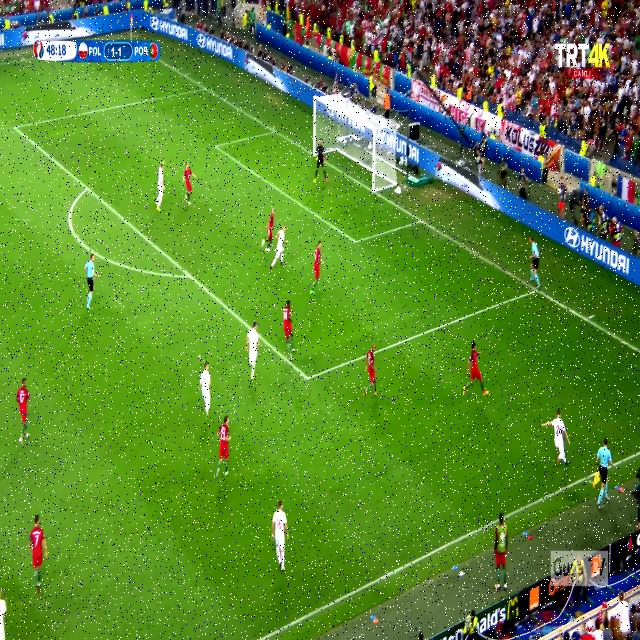GoalKeeper: (312, 139, 326, 185)
TEAM 1: (30, 515, 48, 597), (465, 343, 487, 401), (215, 417, 232, 482), (15, 377, 31, 443), (260, 199, 278, 251), (310, 239, 326, 296), (280, 299, 294, 355), (364, 345, 378, 398), (184, 162, 197, 206)
TEAM 2: (542, 408, 572, 470), (271, 501, 290, 574), (246, 319, 262, 383), (267, 226, 288, 274), (198, 362, 212, 419), (154, 161, 168, 212)
